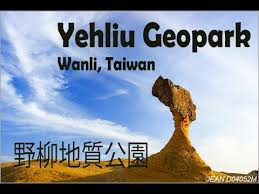yehliu: (151, 73, 204, 124)
